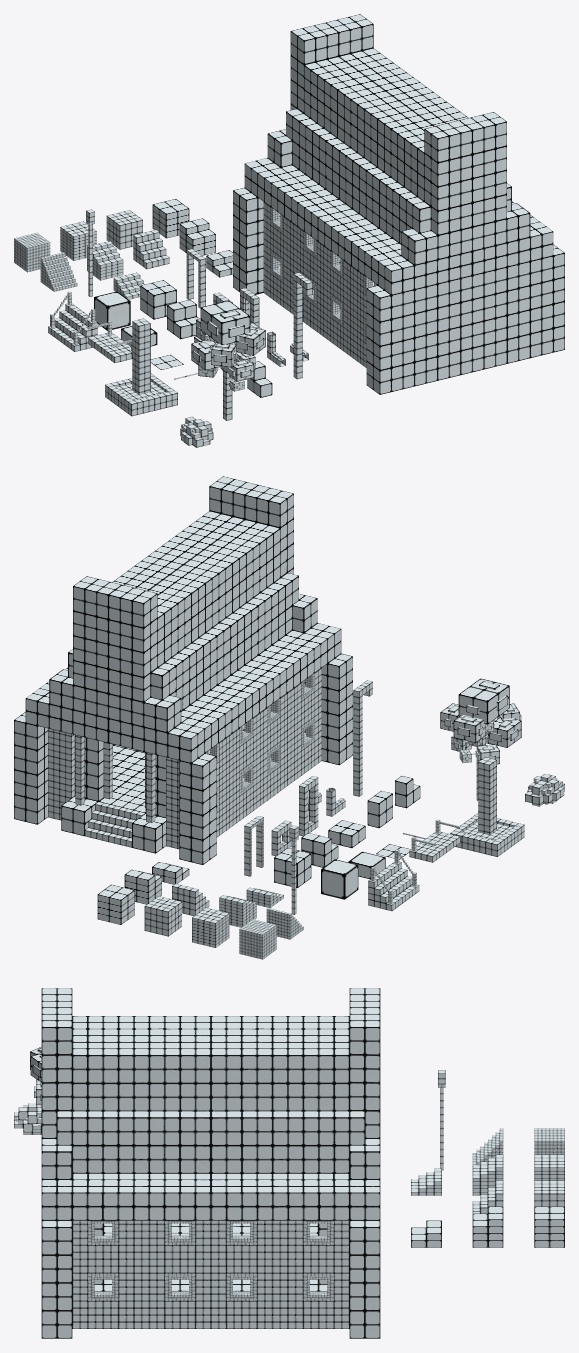
The model's file is LevelParts.fbx.
3 views of the same model, one above another, from view 1: azimuth 30°, elevation 25°; view 2: azimuth 150°, elevation 25°; view 3: azimuth 270°, elevation 25° (orthographic). The views are drawn at different scales.
Parts seen in each view (by area): view 1: Church_1, Tree_1, Fountain_1, Bridge_Start, StreetLamp_1, Cube_1x1_1x1, Cube_1x1_4x2, Cube_1x1_4x4, Cube_1x1_2x2, Cube_1x1_8x8, Stair_1x1_4x2_2, Stair_1x1_4x4 (+11 smaller); view 2: Church_1, Tree_1, Fountain_1, Bridge_Start, Cube_1x1_1x1, Cube_1x1_4x4, Cube_1x1_8x8, Cube_1x1_4x8, Cube_1x1_4x2, StreetLamp_1, Bridge_Midle, Cube_1x1_2x2 (+12 smaller); view 3: Church_1, Cube_1x1_4x2, Stair_1x1_4x2_2, Stair_1x1_4x8_2, Cube_1x1_4x4, Cube_1x1_4x8, Cube_1x1_8x8, Bush_LOD0, Stair_1x1_4x2_1, Stair_1x1_4x8_1, Stair_1x1_8x8, Stair_1x1_4x4 (+2 smaller).
Part boxes in pixels (x1=…): Church_1: x1=233, y1=14, x2=564, y2=394; Tree_1: x1=191, y1=300, x2=265, y2=420; Fountain_1: x1=105, y1=318, x2=177, y2=416; Bridge_Start: x1=48, y1=291, x2=97, y2=351; StreetLamp_1: x1=293, y1=272, x2=312, y2=379; Cube_1x1_1x1: x1=94, y1=291, x2=130, y2=330; Cube_1x1_4x2: x1=152, y1=199, x2=189, y2=238; Cube_1x1_4x4: x1=106, y1=210, x2=142, y2=249; Cube_1x1_2x2: x1=140, y1=280, x2=176, y2=319; Cube_1x1_8x8: x1=14, y1=233, x2=50, y2=272; Stair_1x1_4x2_2: x1=179, y1=218, x2=215, y2=255; Stair_1x1_4x4: x1=133, y1=229, x2=169, y2=269; Church_1: x1=14, y1=476, x2=352, y2=864; Tree_1: x1=440, y1=678, x2=521, y2=800; Fountain_1: x1=450, y1=757, x2=524, y2=856; Bridge_Start: x1=368, y1=849, x2=419, y2=910; Cube_1x1_1x1: x1=321, y1=859, x2=358, y2=899; Cube_1x1_4x4: x1=144, y1=896, x2=181, y2=936; Cube_1x1_8x8: x1=239, y1=919, x2=276, y2=959; Cube_1x1_4x8: x1=192, y1=907, x2=229, y2=947; Cube_1x1_4x2: x1=97, y1=884, x2=134, y2=924; StreetLamp_1: x1=353, y1=680, x2=372, y2=796; Bridge_Midle: x1=409, y1=819, x2=460, y2=862; Cube_1x1_2x2: x1=274, y1=847, x2=311, y2=887; Church_1: x1=41, y1=988, x2=380, y2=1338; Cube_1x1_4x2: x1=534, y1=1206, x2=564, y2=1247; Stair_1x1_4x2_2: x1=472, y1=1206, x2=503, y2=1247; Stair_1x1_4x8_2: x1=472, y1=1154, x2=503, y2=1195; Cube_1x1_4x4: x1=534, y1=1180, x2=564, y2=1206; Cube_1x1_4x8: x1=534, y1=1154, x2=564, y2=1180; Cube_1x1_8x8: x1=534, y1=1128, x2=564, y2=1154; Bush_LOD0: x1=14, y1=1103, x2=41, y2=1134; Stair_1x1_4x2_1: x1=411, y1=1220, x2=441, y2=1247; Stair_1x1_4x8_1: x1=411, y1=1168, x2=441, y2=1195; Stair_1x1_8x8: x1=472, y1=1128, x2=503, y2=1165; Stair_1x1_4x4: x1=472, y1=1180, x2=503, y2=1213.
Size of what is drawn, in the model's own units: 17 by 10 by 17.9.
3 materials, 2 textured.
